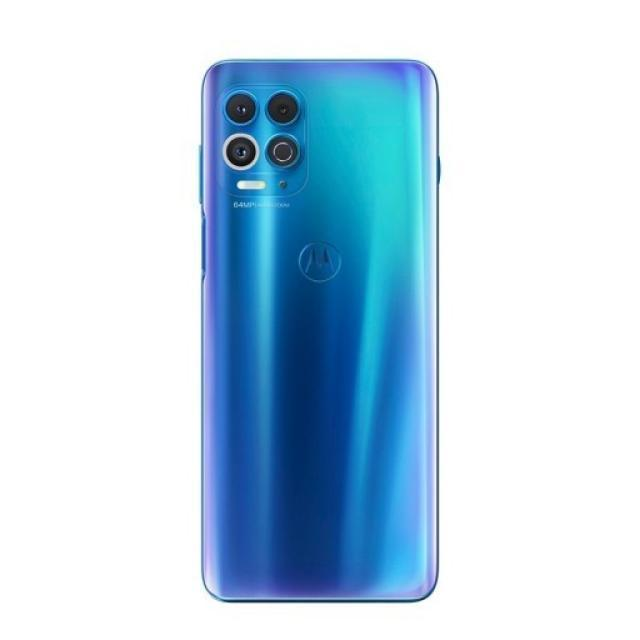phone: (194, 57, 444, 606)
